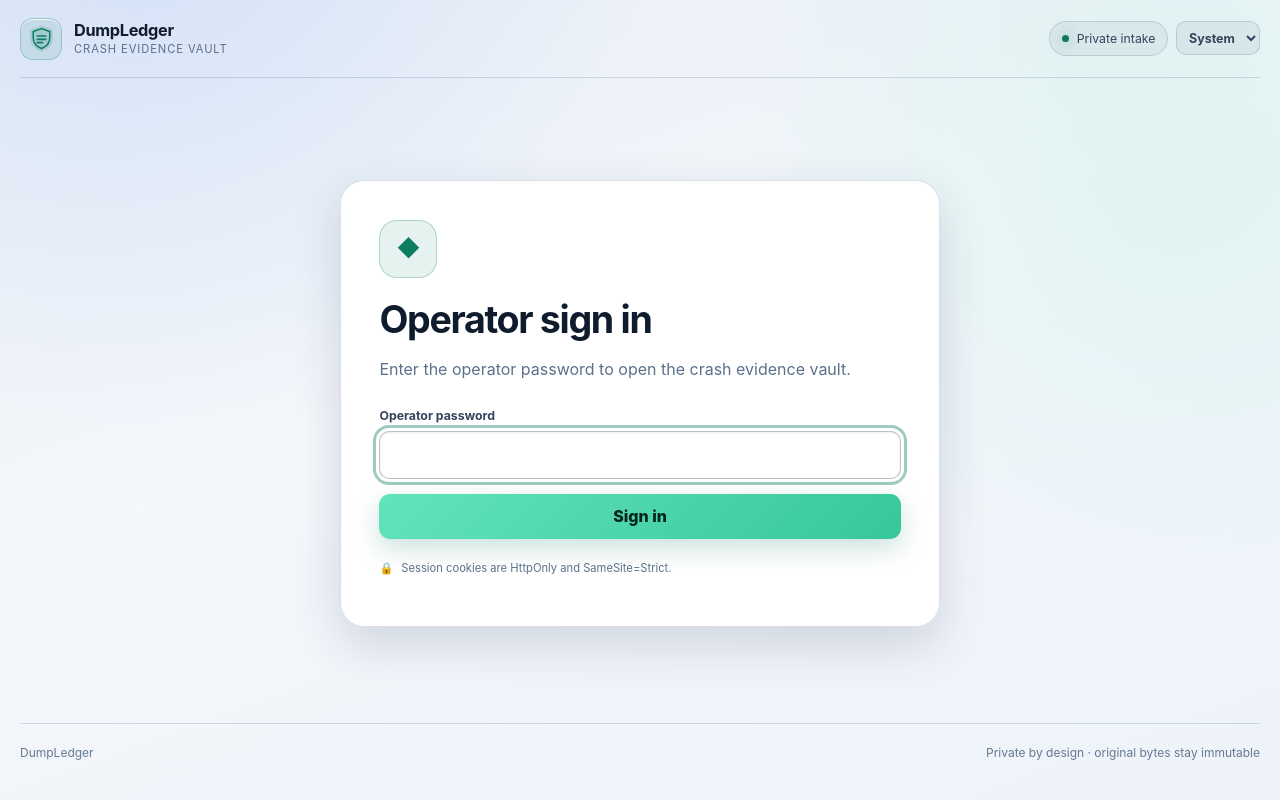
Scenario: login flow › signs in with the operator password and lands on the dashboard
This screenshot has width=1280, height=800.
Type "correct horse battery staple" into the password field labelled "Operator password". click: {"x": 640, "y": 455}
box: [379,431,901,479]
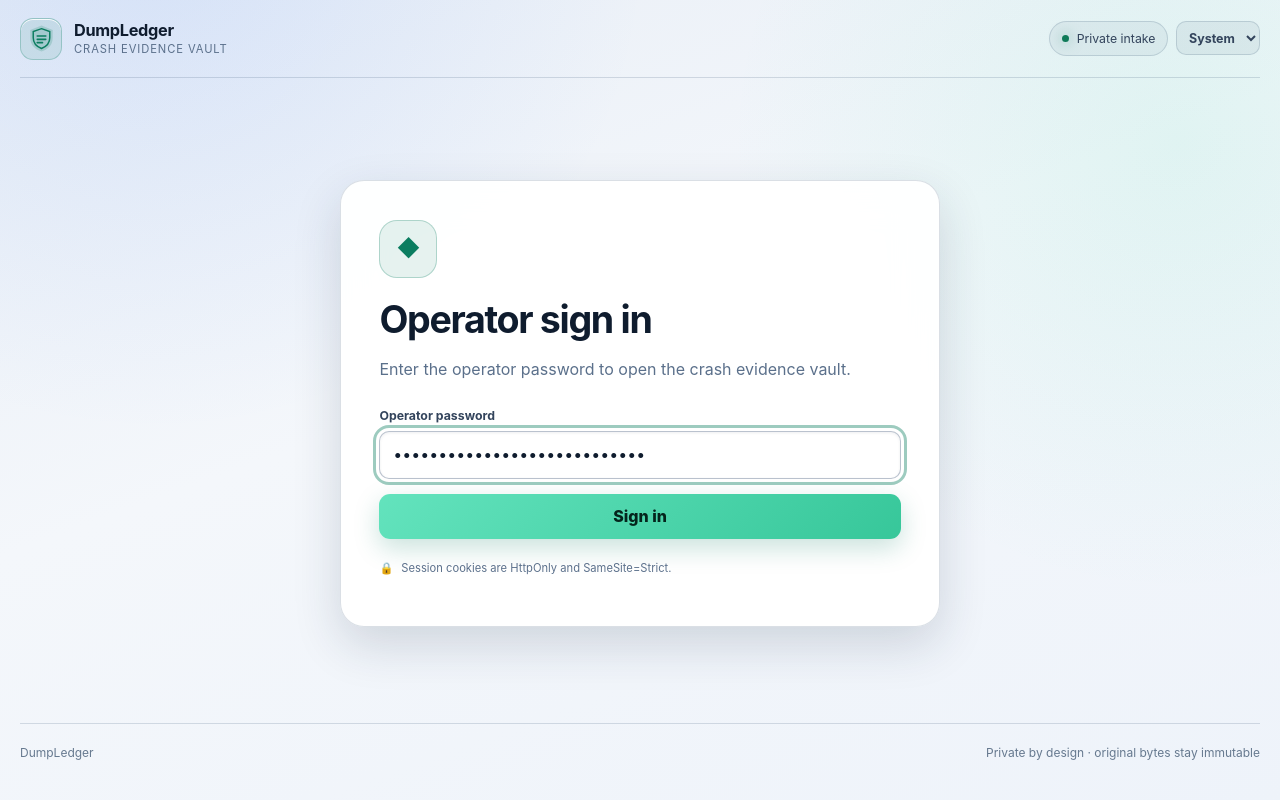
Click the button "Sign in". click: {"x": 640, "y": 516}
box: [379,494,901,539]
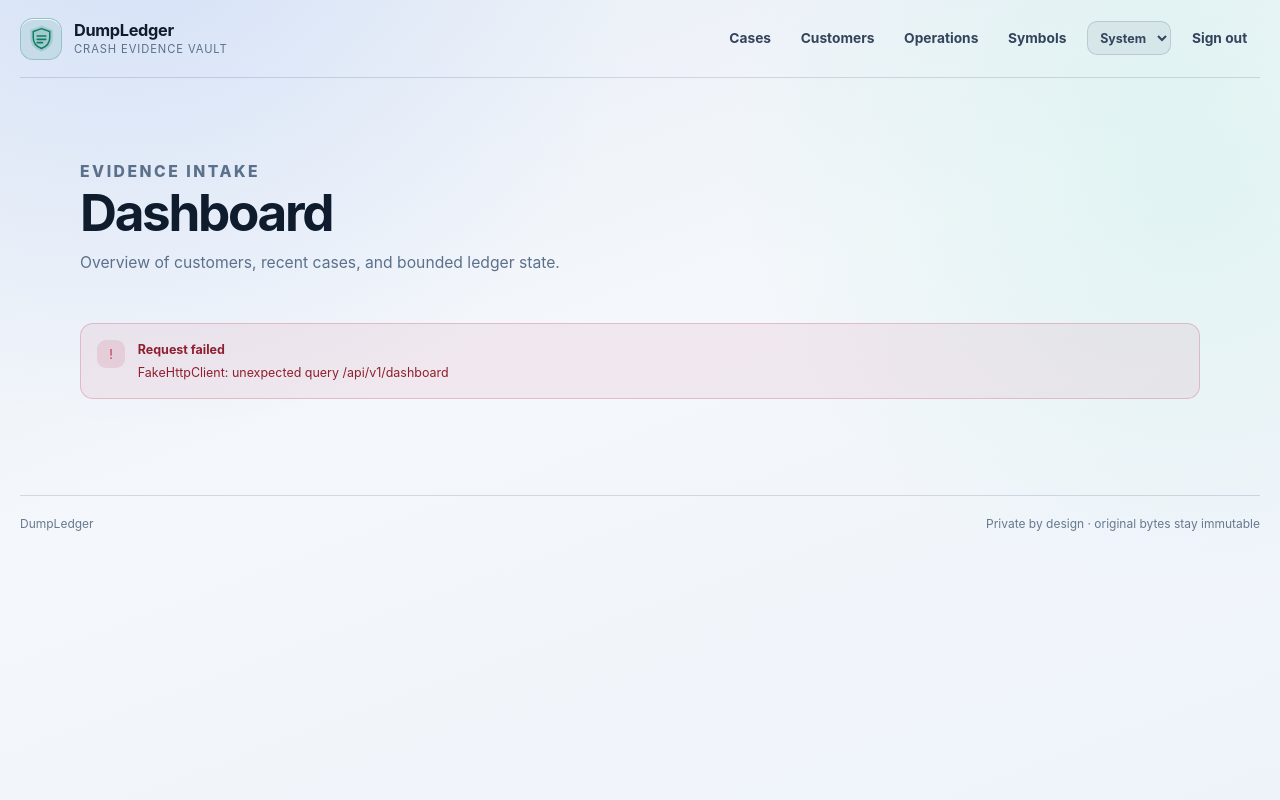
Expected: the heading "Dashboard" is shown, [80,181,332,243]
